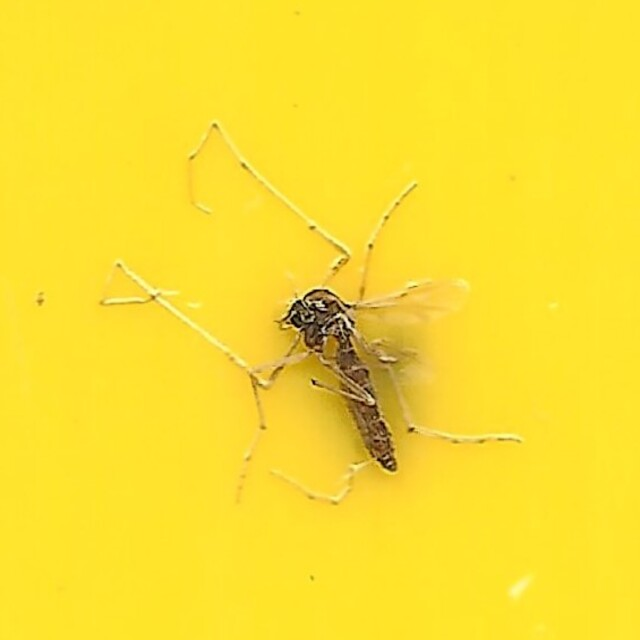Nematocera: (113, 124, 527, 516)
